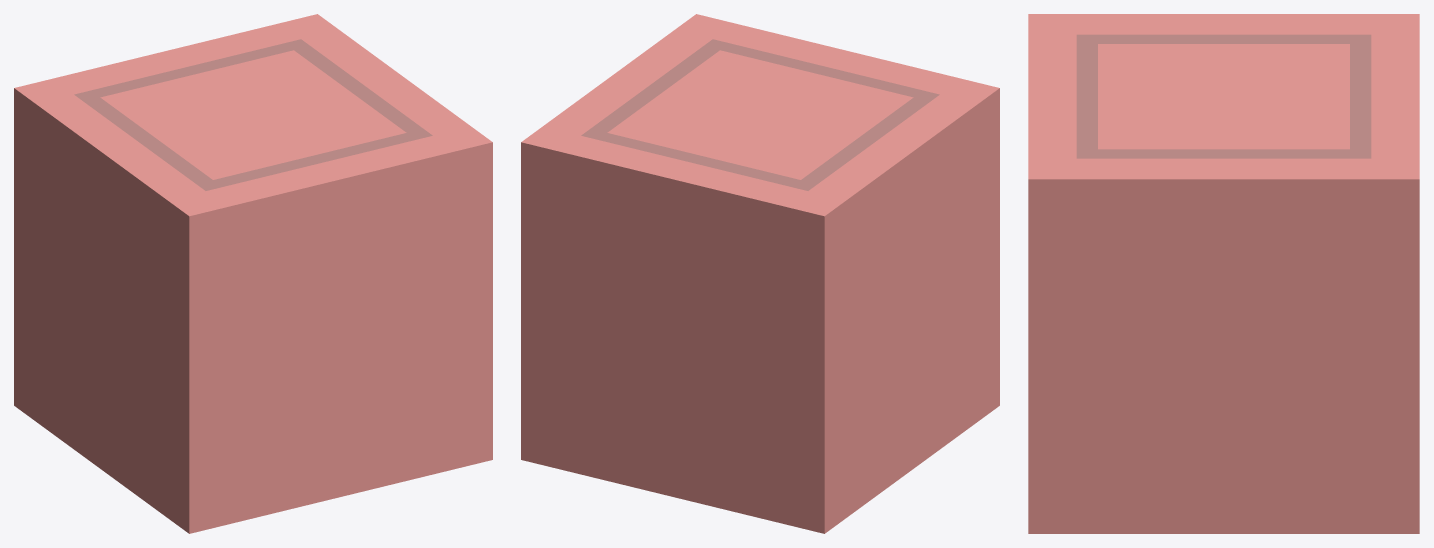
The model's file is kn-rug-square.glb.
3 renders of one model, left to right at view 1: azimuth 30°, elevation 25°; view 2: azimuth 150°, elevation 25°; view 3: azimuth 270°, elevation 25°, orthographic. The views are drawn at different scales.
Parts seen in each view (by area): view 1: rugSquare(Clone); view 2: rugSquare(Clone); view 3: rugSquare(Clone).
Boxes of the visible parts, box(x1,y1,x2,y2) form: rugSquare(Clone): box(14, 14, 492, 533); rugSquare(Clone): box(521, 14, 999, 533); rugSquare(Clone): box(1028, 14, 1419, 533).
Size of the model in its own units: 1 by 1 by 1.
